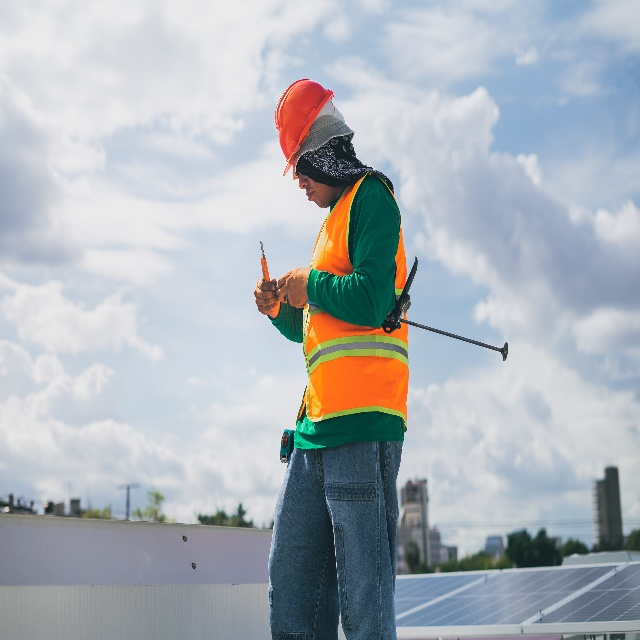Sin_guantes: (275, 265, 311, 307), (253, 276, 277, 317)
